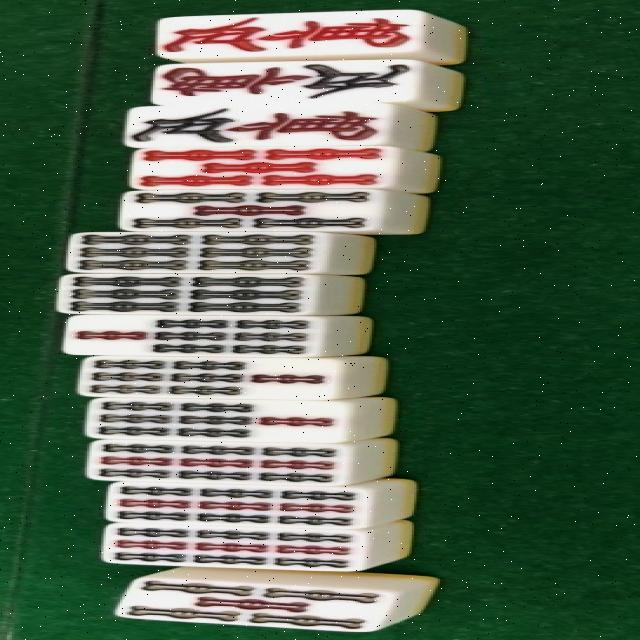bamboos_5: (106, 572, 445, 632), (108, 150, 447, 186), (108, 190, 412, 228)
bamboos_6: (42, 275, 346, 311), (59, 233, 358, 267)
bamboos_7: (78, 356, 388, 400), (75, 402, 393, 436), (47, 320, 365, 353)
bamboos_9: (87, 520, 433, 570), (96, 479, 426, 527), (68, 439, 370, 485)
characters_5: (132, 10, 452, 62), (113, 104, 433, 143), (153, 61, 449, 100)
